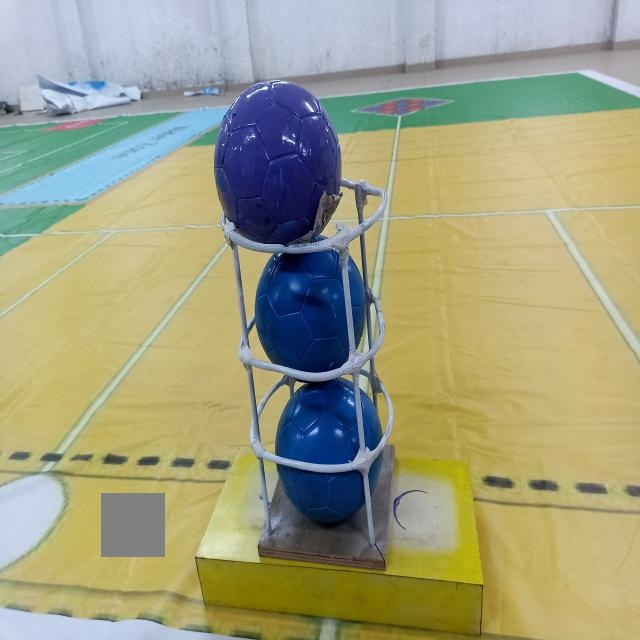blue_ball: (254, 238, 363, 375), (278, 381, 382, 517)
purple_ball: (214, 82, 340, 230)
silo: (217, 177, 488, 637)
